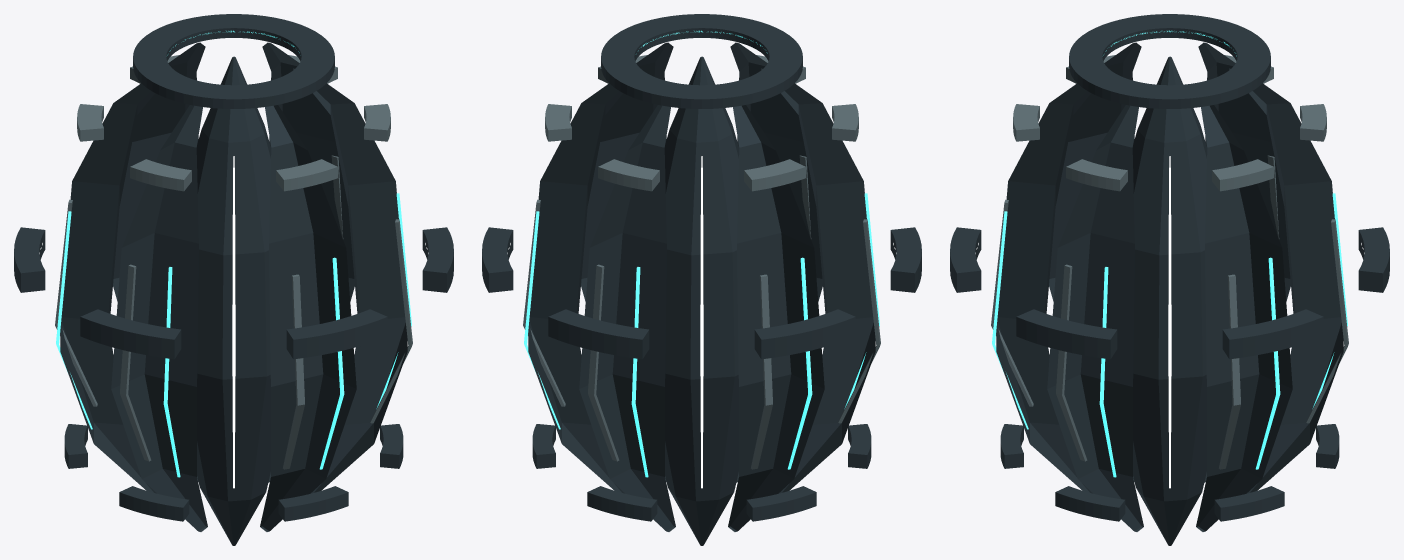
Rendered from Reactor_Vessel.glb.
3 views of the same model, side by side, from view 1: azimuth 30°, elevation 25°; view 2: azimuth 150°, elevation 25°; view 3: azimuth 270°, elevation 25° (orthographic).
Parts seen in each view (by area): view 1: Heart | suspended faceted spindle, Containment | levitating petal 4, Containment | levitating petal 5, Containment | levitating petal 3, Containment | levitating petal 6, Crown | aperture / clear 150m diameter, Containment | levitating petal 2, Containment | levitating petal 1, Containment | mid floating arc 4, Containment | mid floating arc 5, Containment | mid floating arc 3, Containment | mid floating arc 6 (+16 smaller); view 2: Heart | suspended faceted spindle, Containment | levitating petal 2, Containment | levitating petal 3, Containment | levitating petal 1, Containment | levitating petal 4, Crown | aperture / clear 150m diameter, Containment | levitating petal 6, Containment | levitating petal 5, Containment | mid floating arc 2, Containment | mid floating arc 3, Containment | mid floating arc 1, Containment | mid floating arc 4 (+16 smaller); view 3: Heart | suspended faceted spindle, Containment | levitating petal 6, Containment | levitating petal 1, Containment | levitating petal 5, Containment | levitating petal 2, Crown | aperture / clear 150m diameter, Containment | levitating petal 4, Containment | levitating petal 3, Containment | mid floating arc 1, Containment | mid floating arc 6, Containment | mid floating arc 2, Containment | mid floating arc 5 (+16 smaller).
Boxes of the visible parts, left/top/right/bottom form: Heart | suspended faceted spindle: left=196, top=56, right=271, bottom=545; Containment | levitating petal 4: left=111, top=105, right=207, bottom=531; Containment | levitating petal 5: left=260, top=105, right=356, bottom=531; Containment | levitating petal 3: left=60, top=68, right=174, bottom=493; Containment | levitating petal 6: left=293, top=68, right=407, bottom=493; Crown | aperture / clear 150m diameter: left=133, top=14, right=334, bottom=108; Containment | levitating petal 2: left=113, top=42, right=205, bottom=481; Containment | levitating petal 1: left=262, top=42, right=354, bottom=482; Containment | mid floating arc 4: left=80, top=309, right=181, bottom=359; Containment | mid floating arc 5: left=286, top=309, right=387, bottom=359; Containment | mid floating arc 3: left=14, top=227, right=45, bottom=292; Containment | mid floating arc 6: left=422, top=227, right=453, bottom=292; Heart | suspended faceted spindle: left=664, top=56, right=739, bottom=545; Containment | levitating petal 2: left=579, top=105, right=675, bottom=531; Containment | levitating petal 3: left=728, top=105, right=824, bottom=531; Containment | levitating petal 1: left=528, top=68, right=642, bottom=493; Containment | levitating petal 4: left=761, top=68, right=875, bottom=493; Crown | aperture / clear 150m diameter: left=601, top=14, right=802, bottom=108; Containment | levitating petal 6: left=581, top=42, right=673, bottom=481; Containment | levitating petal 5: left=730, top=42, right=822, bottom=482; Containment | mid floating arc 2: left=548, top=309, right=649, bottom=359; Containment | mid floating arc 3: left=754, top=309, right=855, bottom=359; Containment | mid floating arc 1: left=482, top=227, right=513, bottom=292; Containment | mid floating arc 4: left=890, top=227, right=921, bottom=292; Heart | suspended faceted spindle: left=1132, top=56, right=1207, bottom=545; Containment | levitating petal 6: left=1047, top=105, right=1143, bottom=531; Containment | levitating petal 1: left=1196, top=105, right=1292, bottom=531; Containment | levitating petal 5: left=996, top=68, right=1110, bottom=493; Containment | levitating petal 2: left=1229, top=68, right=1343, bottom=493; Crown | aperture / clear 150m diameter: left=1069, top=14, right=1270, bottom=108; Containment | levitating petal 4: left=1049, top=42, right=1141, bottom=481; Containment | levitating petal 3: left=1198, top=42, right=1290, bottom=482; Containment | mid floating arc 1: left=1222, top=309, right=1323, bottom=359; Containment | mid floating arc 6: left=1016, top=309, right=1117, bottom=359; Containment | mid floating arc 2: left=1358, top=227, right=1389, bottom=292; Containment | mid floating arc 5: left=950, top=227, right=981, bottom=292.
Size of the model in its own units: 470 by 598 by 488.
